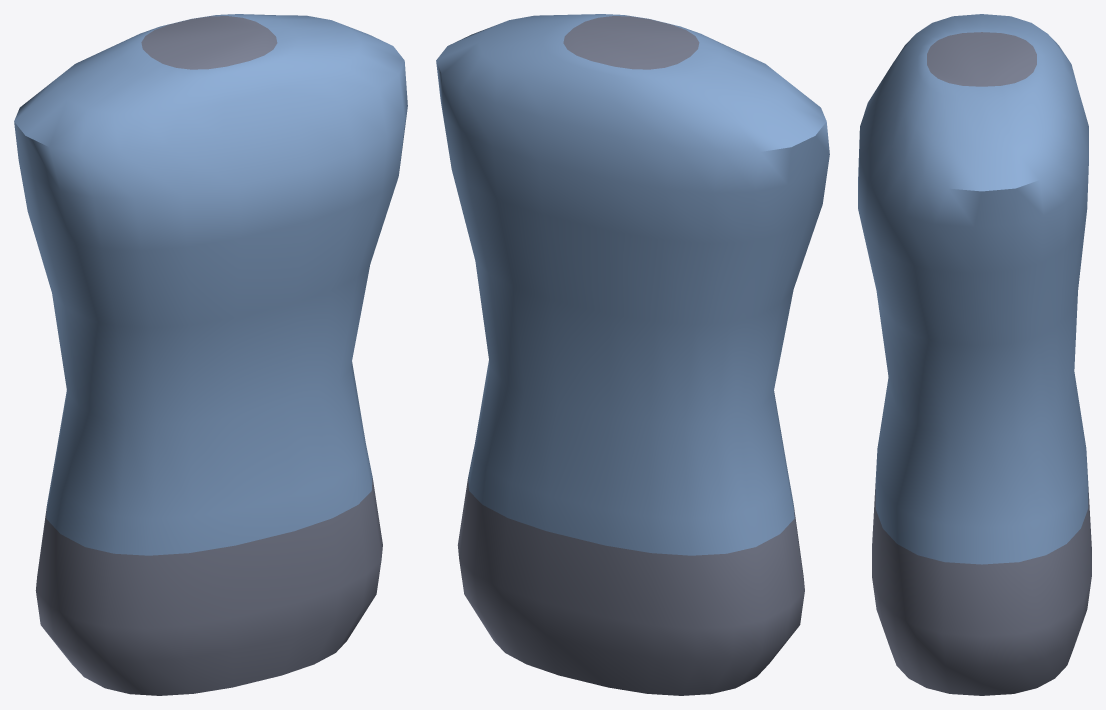
File: Char_Torso.fbx
The picture shows the model from 3 angles, left to right: view 1: azimuth 30°, elevation 25°; view 2: azimuth 150°, elevation 25°; view 3: azimuth 270°, elevation 25°; orthographic projection. The views are drawn at different scales.
Parts seen in each view (by area): view 1: Char_Torso; view 2: Char_Torso; view 3: Char_Torso.
Part boxes in pixels (bbox=[...]): Char_Torso: bbox=[14, 14, 407, 695]; Char_Torso: bbox=[436, 14, 829, 695]; Char_Torso: bbox=[858, 14, 1091, 695].
Bounding box in the file's own units: 0.44 × 0.69 × 0.2529.
